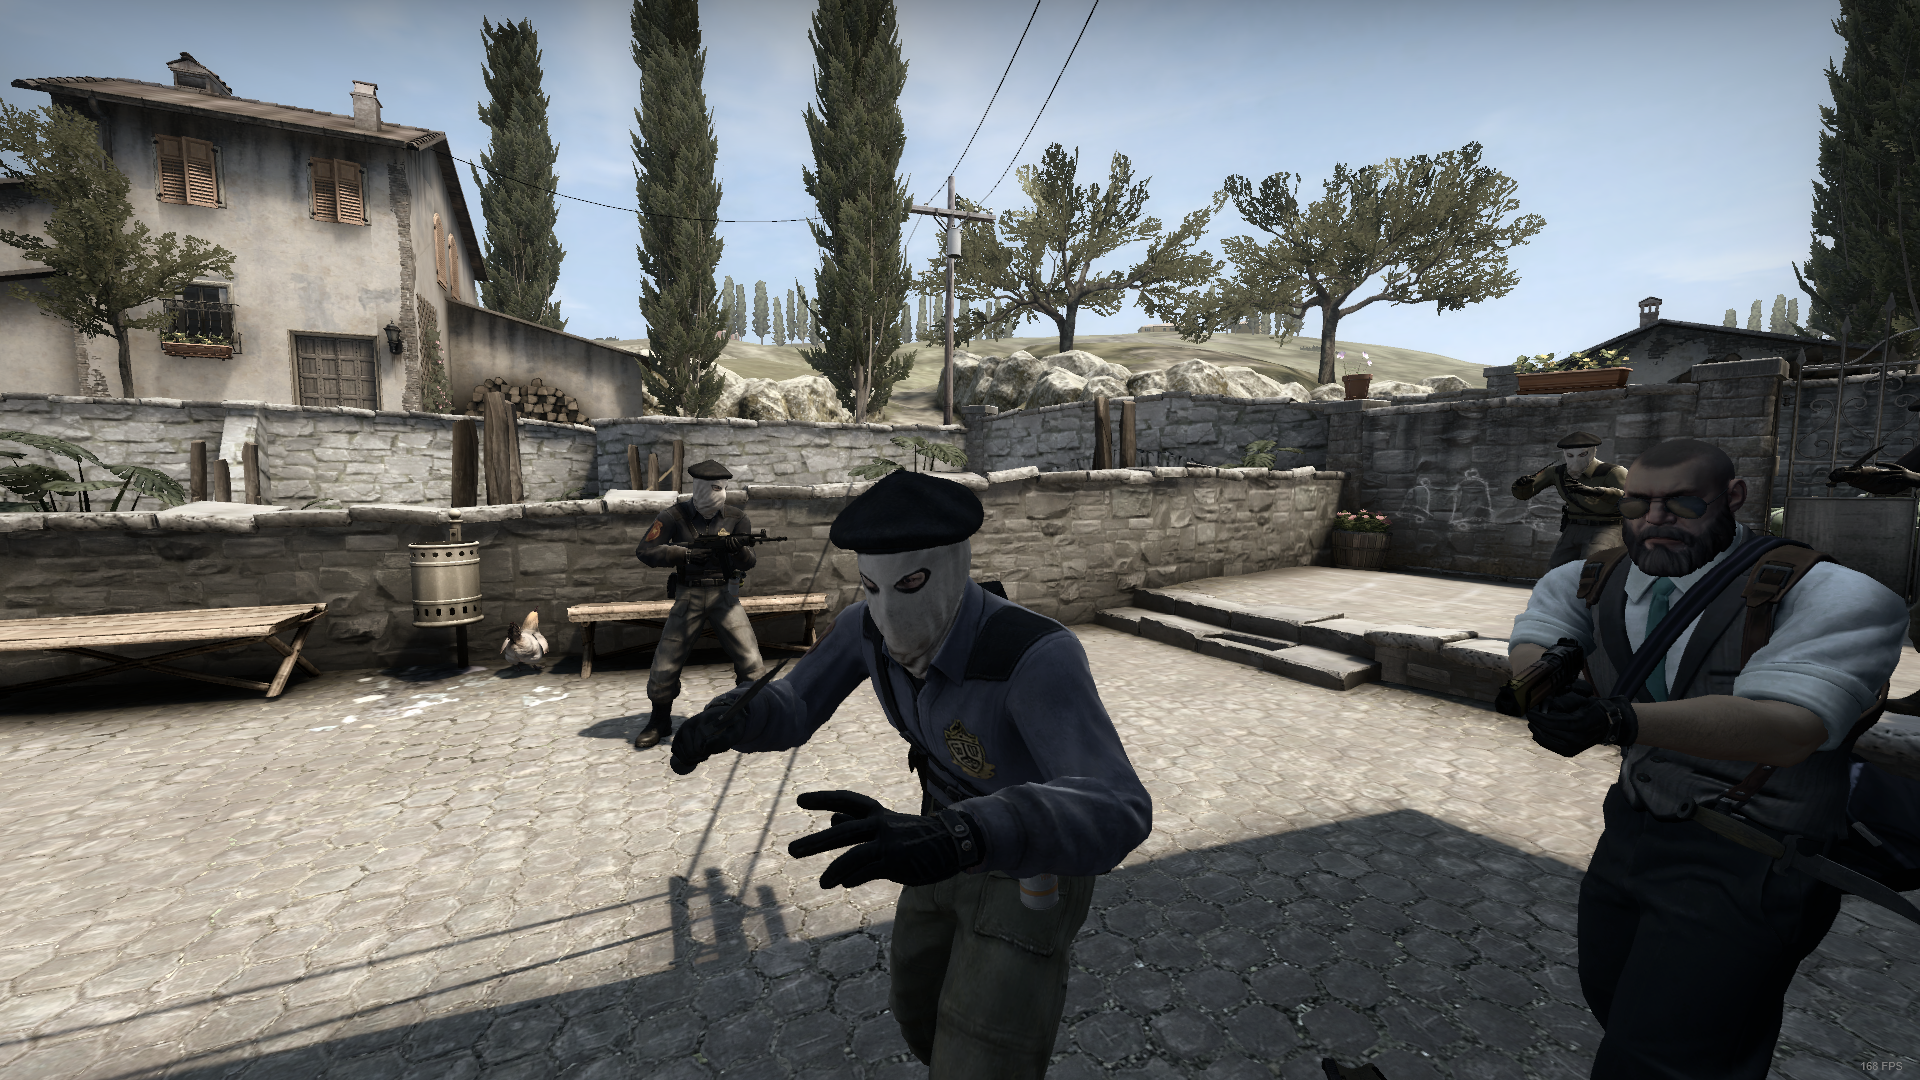t: (674, 468, 1149, 1080), (637, 460, 793, 749), (1516, 433, 1629, 555)
